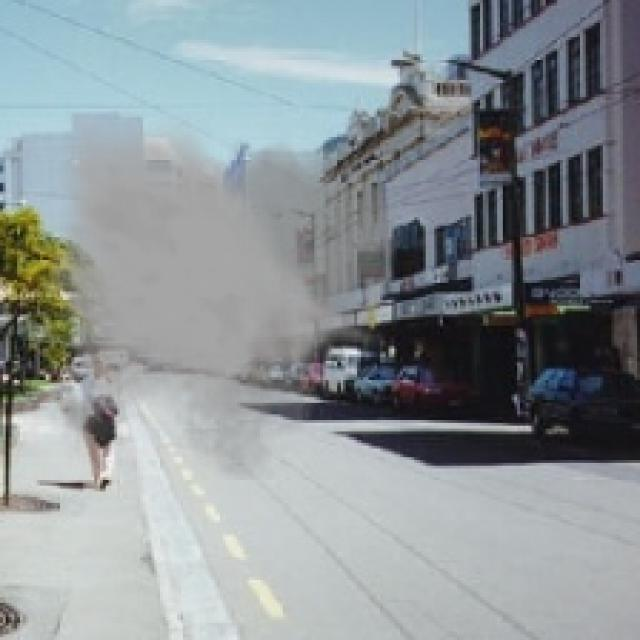Smoke: (43, 111, 403, 480)
